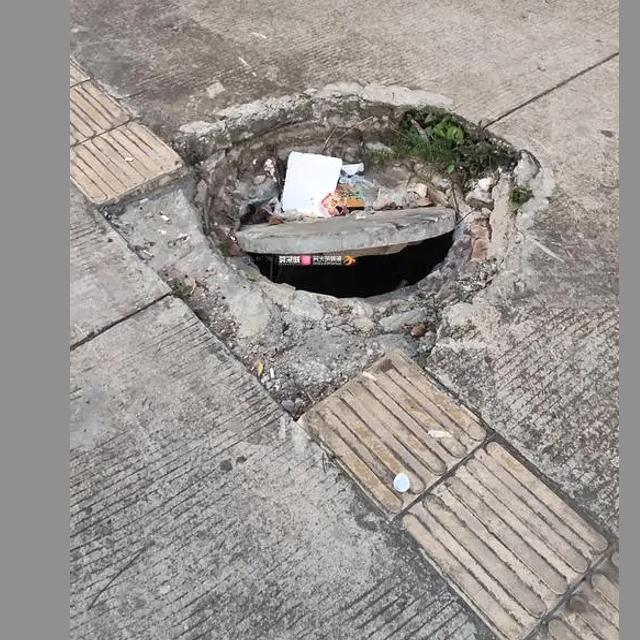circle: (122, 74, 571, 397)
